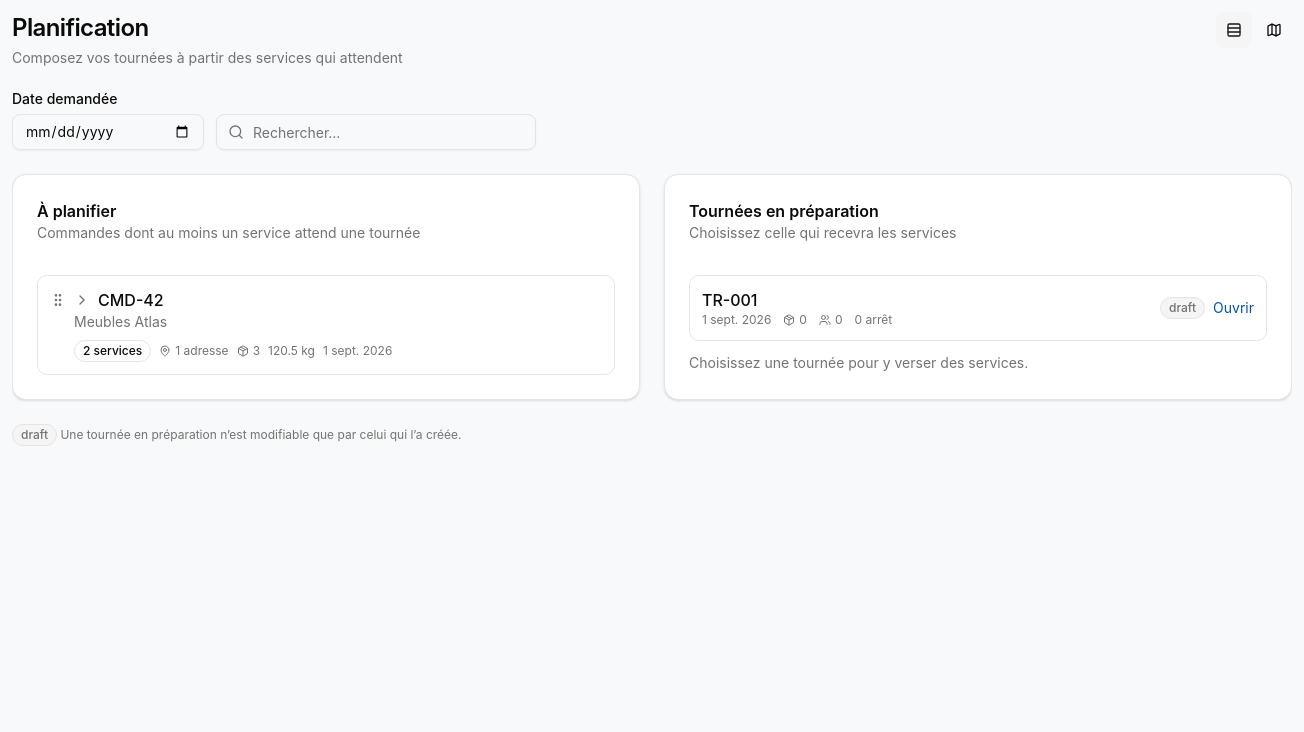
Scenario: écran de planification › rapporte le motif d’un service refusé
The image size is (1304, 732).
Expected: the text "CMD-42" is shown, [50,288,167,312]
Click the button "TR-001 1 sept. 2026 0 0 0 arrêt" at (730, 300), box [702,288,1152,328]
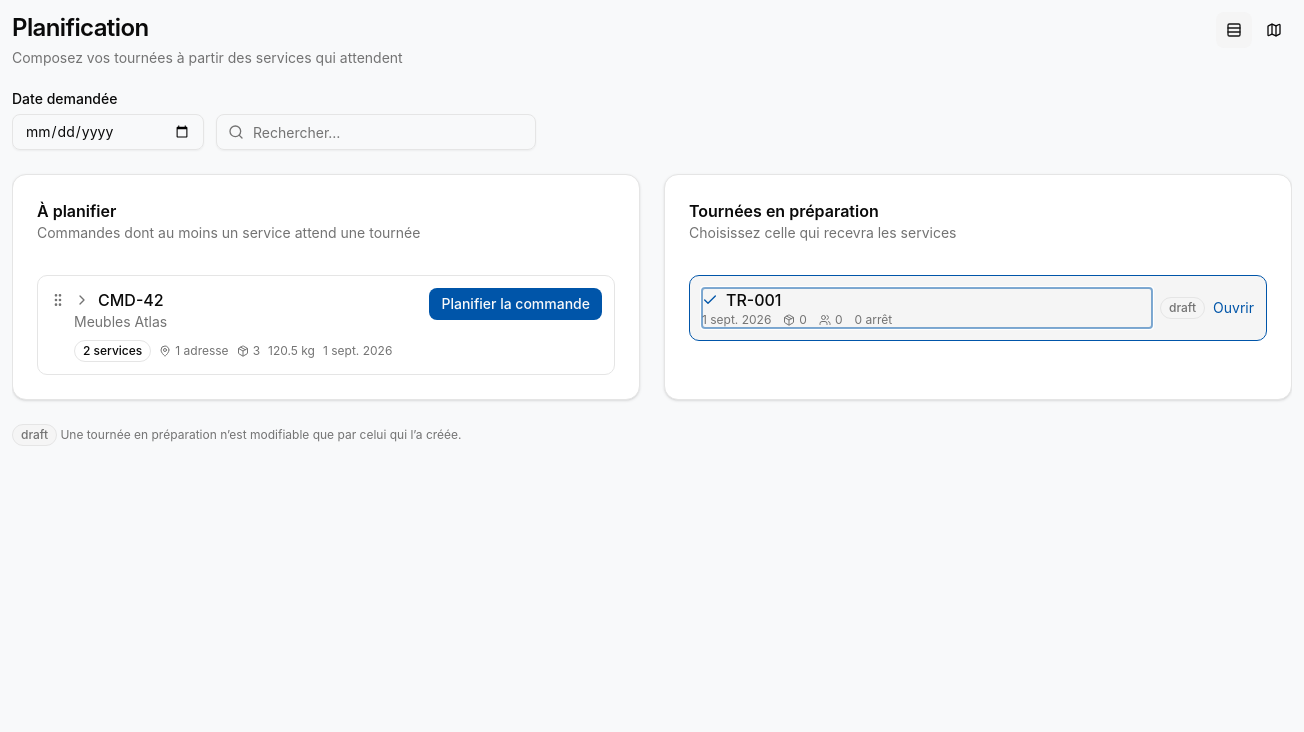
Click the button "Planifier la commande" at (516, 304), box [430,288,602,320]
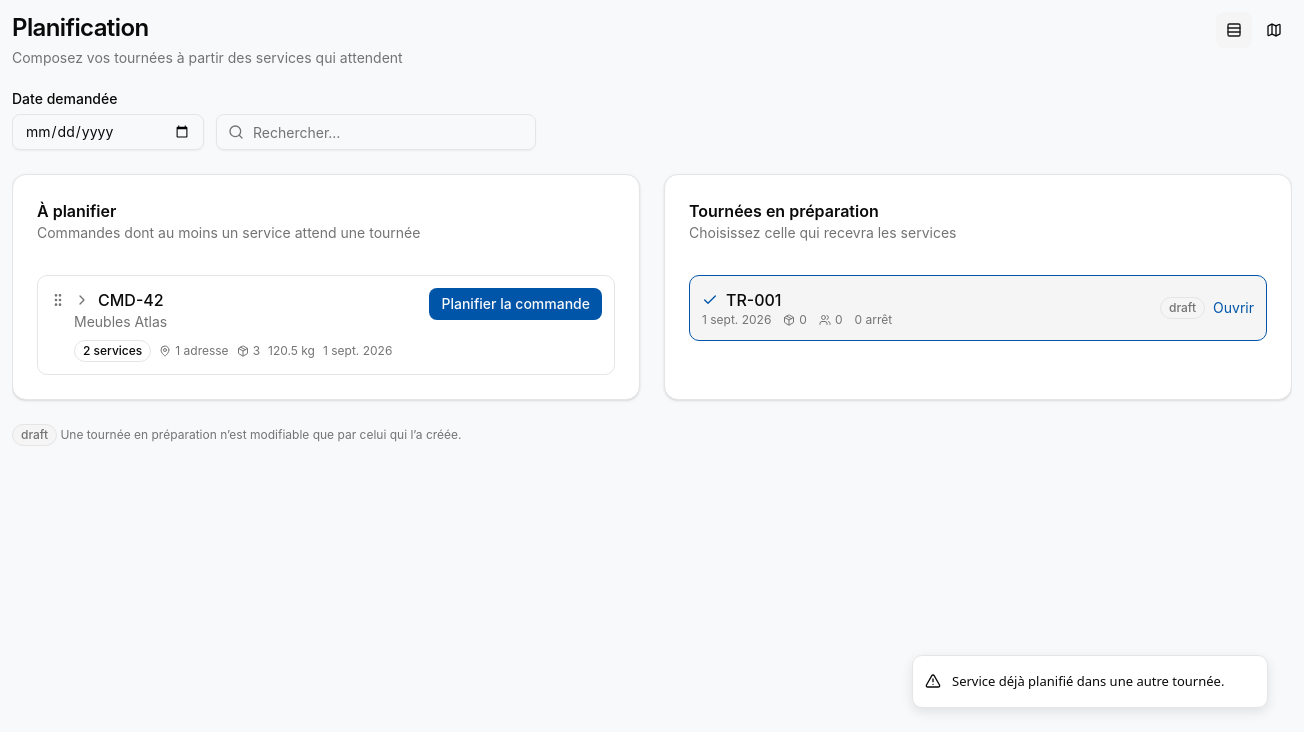
Expected: the text "Service déjà planifié dans une autre tournée." is shown, [952,672,1224,691]
